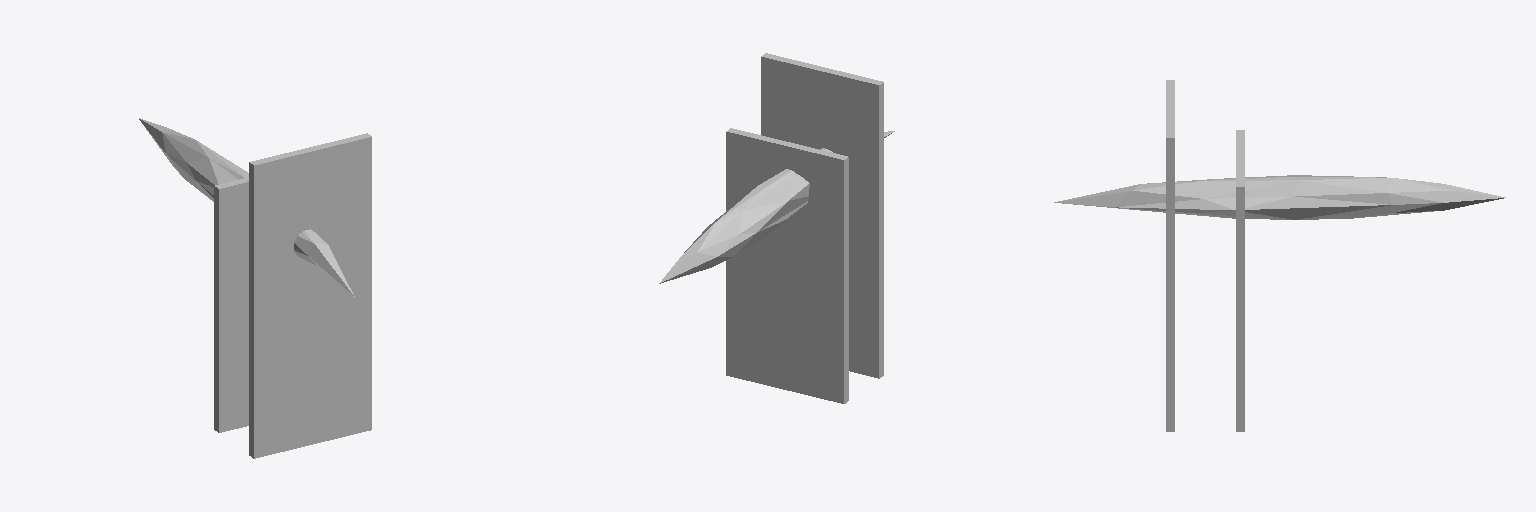
The model's file is shard_detween_walls.obj.
3 renders of one model, left to right at view 1: azimuth 30°, elevation 25°; view 2: azimuth 150°, elevation 25°; view 3: azimuth 270°, elevation 25°, orthographic.
Visible parts, largest first — view 1: Икосфера; view 2: Икосфера; view 3: Икосфера.
Part boxes in pixels (left/top/right/bottom): Икосфера: left=139, top=118, right=371, bottom=458; Икосфера: left=659, top=53, right=894, bottom=403; Икосфера: left=1054, top=80, right=1505, bottom=431.
Bounding box in the file's own units: 2.18 × 5.17 × 7.25.